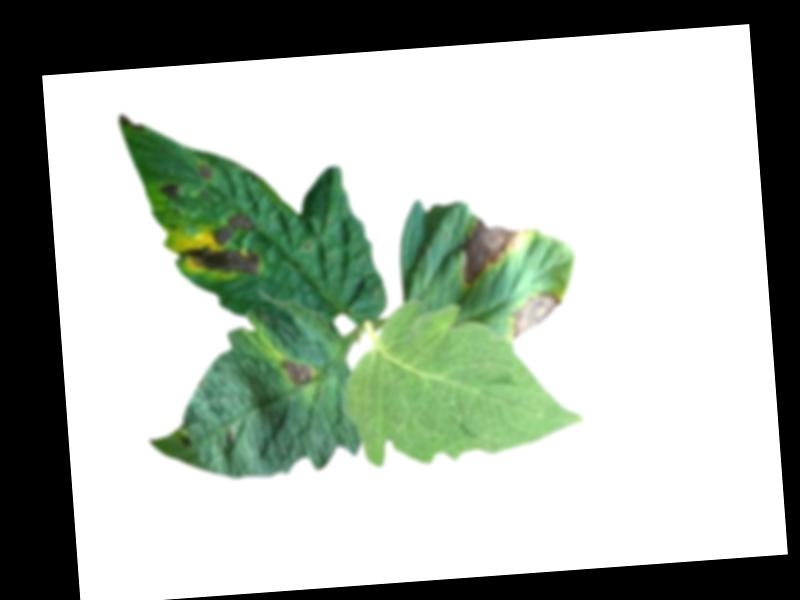Early_blight: (174, 211, 261, 280), (460, 211, 529, 283), (510, 290, 564, 339), (282, 354, 314, 388), (158, 181, 184, 199), (198, 160, 213, 178), (180, 431, 194, 446)
healthy: (336, 287, 584, 470)
